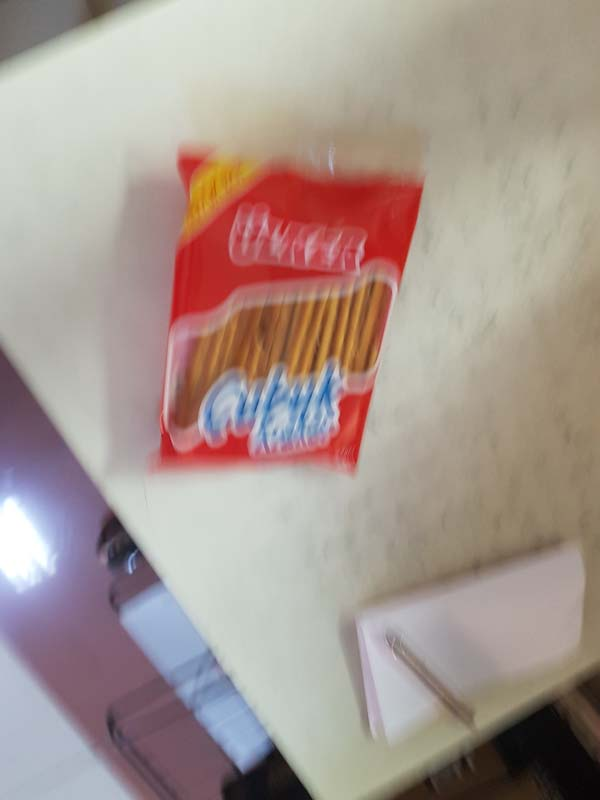eticubuk: (157, 144, 409, 473)
